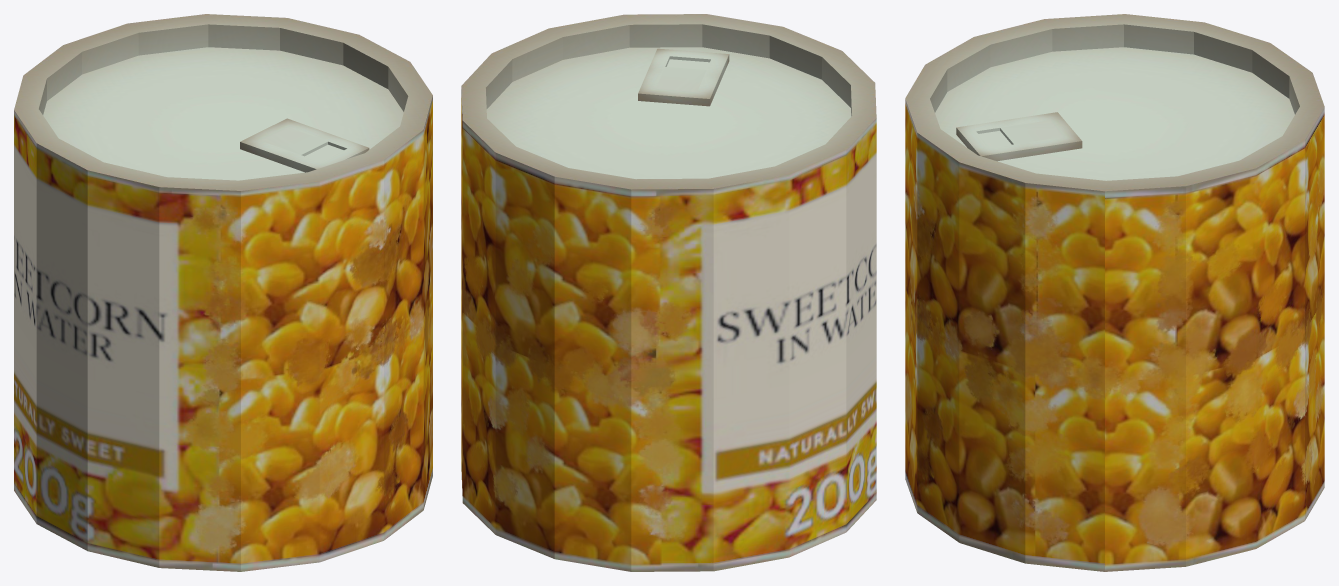
The model's file is sweetcorn.fbx.
The picture shows the model from 3 angles, left to right: view 1: azimuth 30°, elevation 25°; view 2: azimuth 150°, elevation 25°; view 3: azimuth 270°, elevation 25°; orthographic projection.
Parts seen in each view (by area): view 1: Beans.001; view 2: Beans.001; view 3: Beans.001.
Boxes of the visible parts, left/top/right/bottom form: Beans.001: left=14, top=14, right=432, bottom=571; Beans.001: left=461, top=14, right=876, bottom=571; Beans.001: left=905, top=14, right=1324, bottom=571.
Size of the model in its own units: 32.13 by 32.16 by 32.13.
